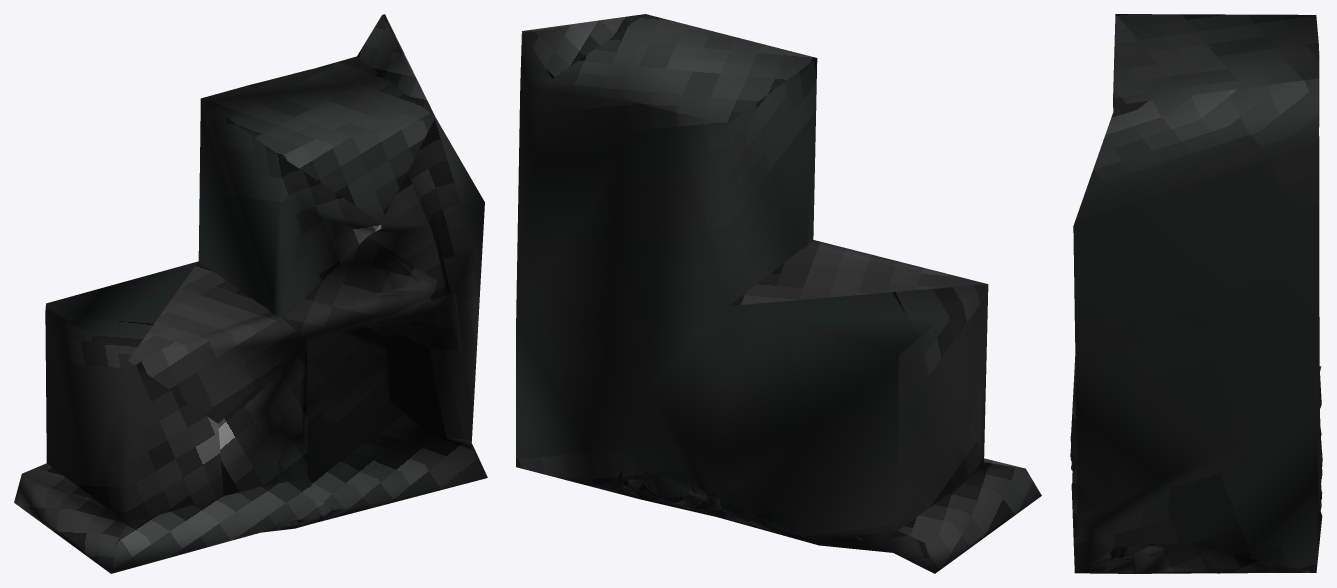
File: Victor_Reversible_Bookend-low.glb
3 views of the same model, side by side, from view 1: azimuth 30°, elevation 25°; view 2: azimuth 150°, elevation 25°; view 3: azimuth 270°, elevation 25° (orthographic). The views are drawn at different scales.
Visible parts, largest first — view 1: Victor_Reversible_Bookend; view 2: Victor_Reversible_Bookend; view 3: Victor_Reversible_Bookend.
Part boxes in pixels (<box>): Victor_Reversible_Bookend: <box>14,14,487,573</box>; Victor_Reversible_Bookend: <box>516,14,1041,573</box>; Victor_Reversible_Bookend: <box>1070,14,1322,573</box>.
Bounding box in the file's own units: 0.2338 × 0.2341 × 0.1077.
1 material, 1 textured.
